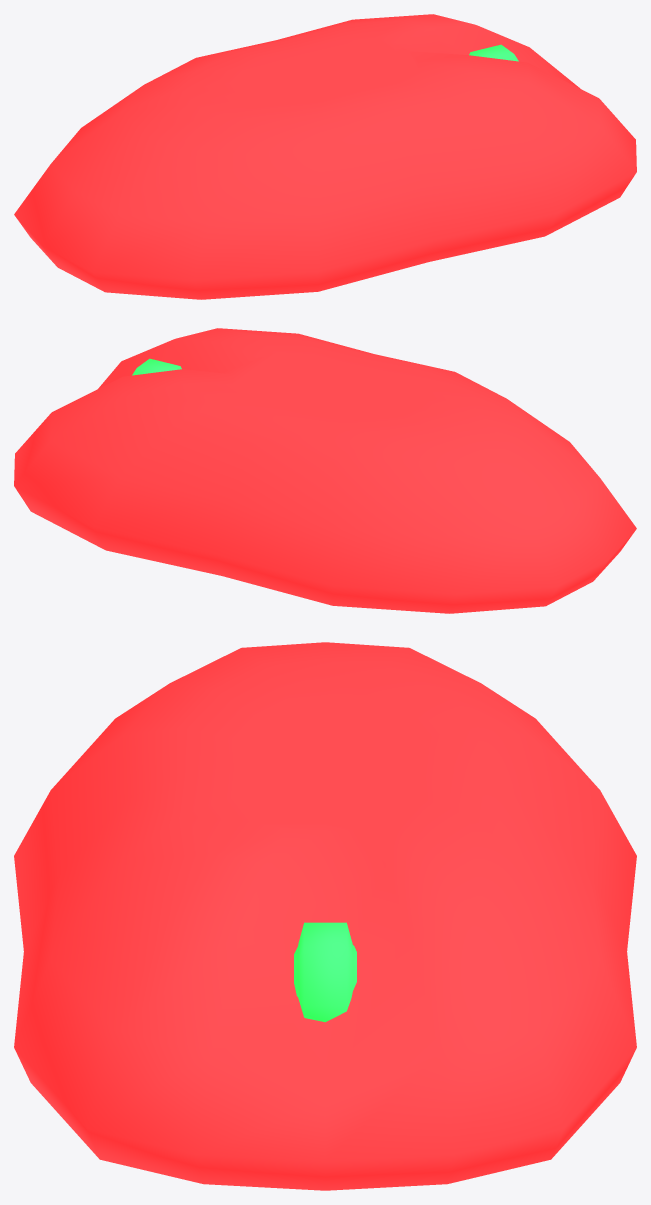
Rendered from MOD_ELE_Mouse_01.fbx.
3 views of the same model, one above another, from view 1: azimuth 30°, elevation 25°; view 2: azimuth 150°, elevation 25°; view 3: azimuth 270°, elevation 25° (orthographic). The views are drawn at different scales.
Visible parts, largest first — view 1: HSHP_MOD_Mouse; view 2: HSHP_MOD_Mouse; view 3: HSHP_MOD_Mouse.
Boxes of the visible parts, x1,y1,x2,y2 form: HSHP_MOD_Mouse: (14,14,636,299); HSHP_MOD_Mouse: (14,328,636,613); HSHP_MOD_Mouse: (14,642,636,1190).
Size of the model in its own units: 18.13 by 4.03 by 10.61.
